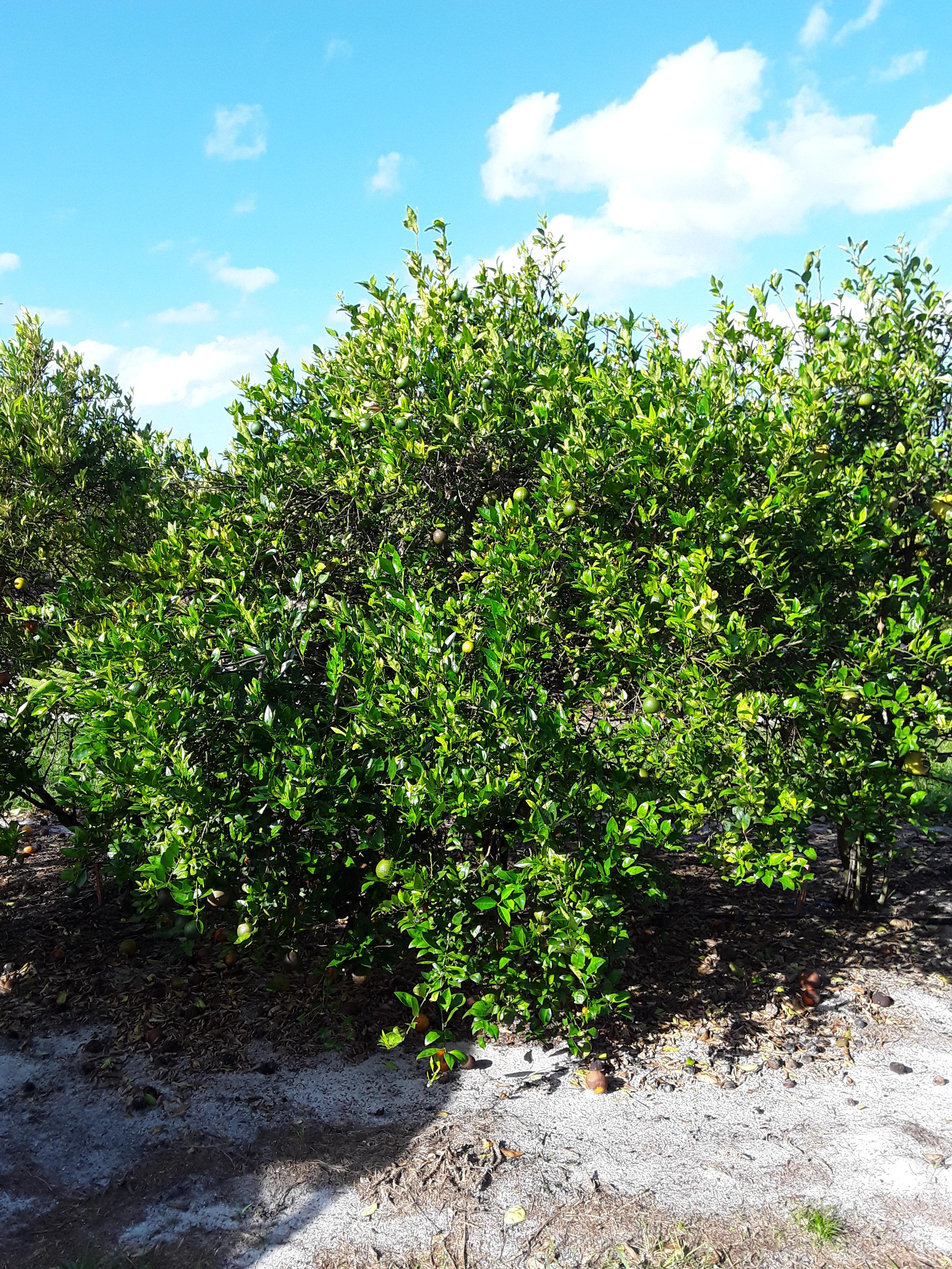fruit_on_ground: (904, 748, 932, 781), (205, 882, 232, 912), (530, 903, 562, 926), (158, 885, 184, 913), (373, 855, 399, 882), (508, 486, 536, 506), (235, 921, 260, 943), (182, 919, 204, 940), (630, 765, 653, 785), (840, 690, 860, 712), (479, 489, 502, 508), (858, 392, 881, 410), (562, 498, 585, 516), (434, 526, 454, 546), (649, 591, 668, 612), (642, 697, 666, 713), (839, 333, 859, 351), (13, 575, 34, 592), (715, 528, 735, 545), (250, 420, 267, 438), (882, 495, 900, 512), (461, 637, 479, 654), (127, 683, 147, 698), (480, 373, 497, 390), (448, 287, 465, 302), (816, 326, 833, 341), (357, 419, 375, 433), (393, 377, 412, 390), (64, 883, 81, 897), (394, 417, 410, 429), (307, 598, 323, 609), (565, 305, 580, 316), (27, 622, 40, 633)
fruit_on_tree: (580, 1068, 612, 1097), (278, 944, 306, 972), (349, 961, 373, 988), (411, 1011, 436, 1034), (119, 935, 139, 958), (800, 970, 823, 990), (341, 1000, 365, 1018), (83, 1038, 105, 1057), (872, 991, 896, 1008), (128, 1094, 152, 1111), (802, 988, 823, 1007), (324, 966, 344, 984), (303, 971, 327, 986), (163, 1038, 187, 1053), (224, 953, 247, 968), (711, 916, 730, 934), (214, 927, 234, 944), (50, 948, 70, 965), (466, 995, 484, 1013), (185, 1005, 203, 1023), (889, 1059, 908, 1076), (144, 988, 170, 1000), (436, 1054, 452, 1073), (781, 1058, 801, 1073), (257, 1061, 278, 1075), (197, 947, 220, 958), (460, 1057, 478, 1071), (145, 1026, 162, 1040), (188, 971, 206, 984), (435, 1074, 456, 1085), (435, 1047, 448, 1064), (19, 826, 35, 837), (23, 846, 39, 857), (21, 883, 36, 893), (56, 832, 70, 838), (40, 829, 50, 837), (40, 819, 49, 827), (44, 810, 52, 817)
